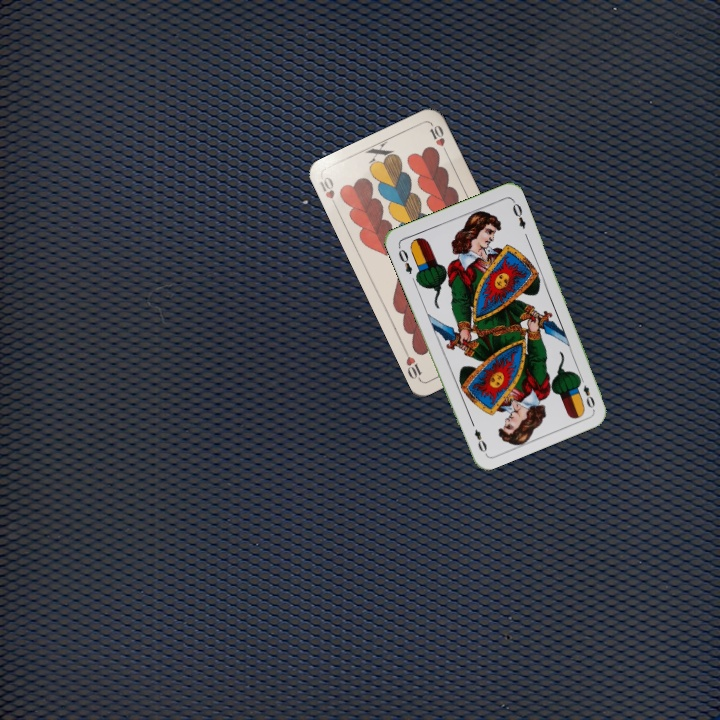EO: (575, 372, 598, 411), (394, 242, 415, 277)
H10: (315, 173, 341, 212)
